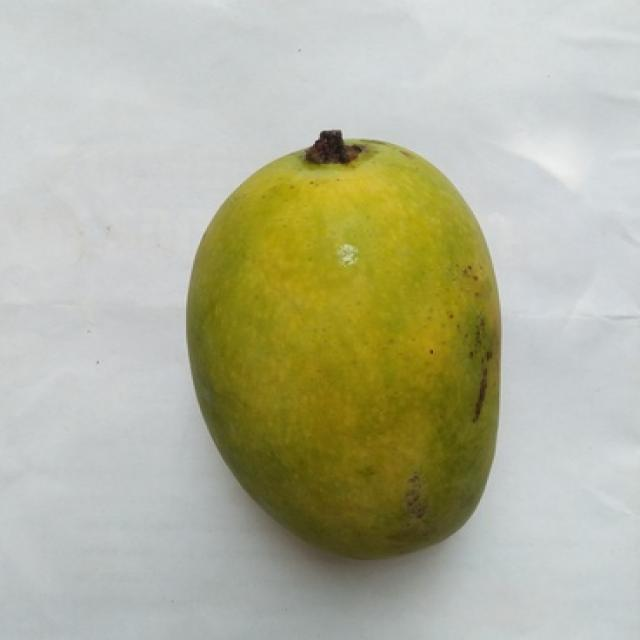Mango: (188, 133, 499, 556)
